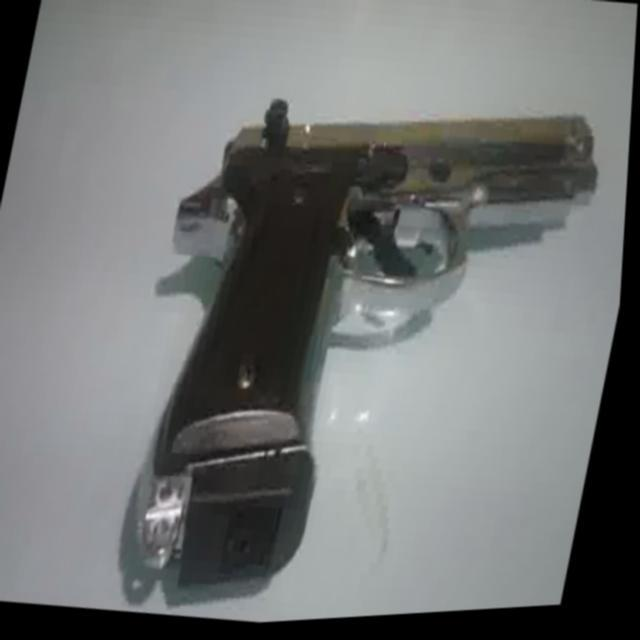weapon: (104, 62, 616, 628)
